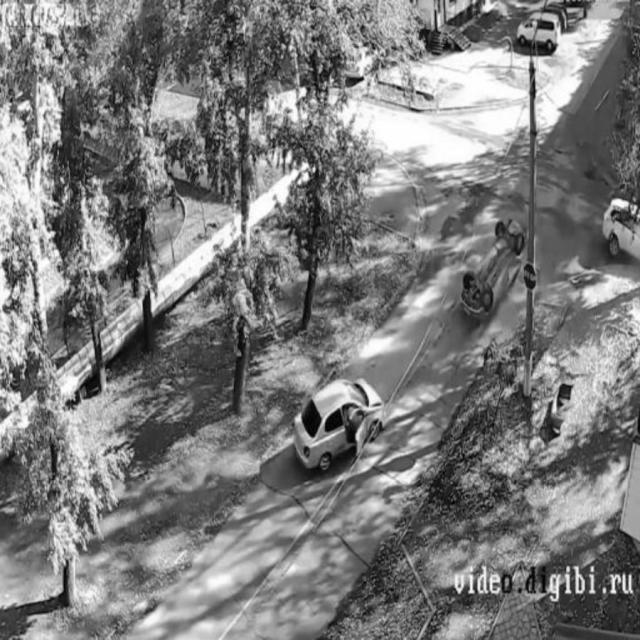vehicle: (295, 374, 388, 465), (456, 216, 520, 308), (598, 197, 640, 278), (514, 12, 562, 50)
